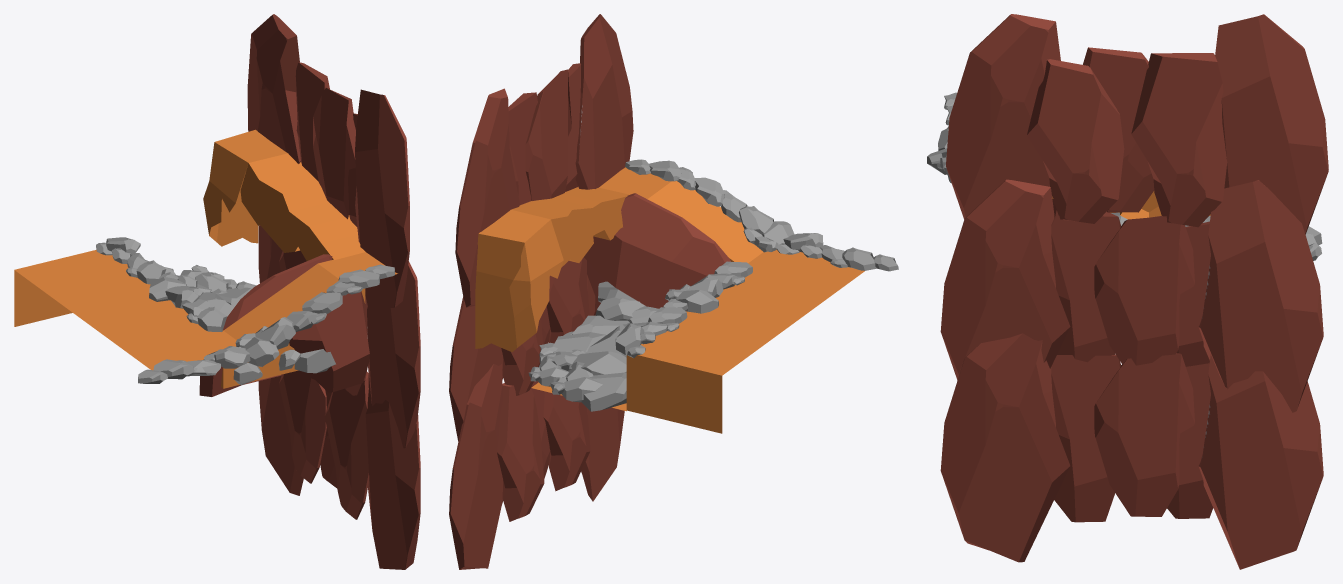
File: Mountain.fbx
The picture shows the model from 3 angles, left to right: view 1: azimuth 30°, elevation 25°; view 2: azimuth 150°, elevation 25°; view 3: azimuth 270°, elevation 25°; orthographic projection. The views are drawn at different scales.
Visible parts, largest first — view 1: Red_Rock_SE04, Rock_Road_SE04.001, rock_SE04, Rock_Road_SE04; view 2: Red_Rock_SE04, Rock_Road_SE04.001, rock_SE04, Rock_Road_SE04; view 3: Red_Rock_SE04, rock_SE04.
Part boxes in pixels (bbox=[...]): Red_Rock_SE04: bbox=[199, 14, 420, 569]; Rock_Road_SE04.001: bbox=[14, 129, 397, 388]; rock_SE04: bbox=[96, 237, 394, 385]; Rock_Road_SE04: bbox=[240, 153, 365, 260]; Red_Rock_SE04: bbox=[449, 14, 730, 569]; Rock_Road_SE04.001: bbox=[475, 167, 864, 433]; rock_SE04: bbox=[528, 159, 898, 411]; Rock_Road_SE04: bbox=[511, 187, 629, 267]; Red_Rock_SE04: bbox=[940, 14, 1328, 569]; rock_SE04: bbox=[927, 92, 1322, 260].
Bounding box in the file's own units: 4483 × 7064 × 4701.
2 materials, 2 textured.
